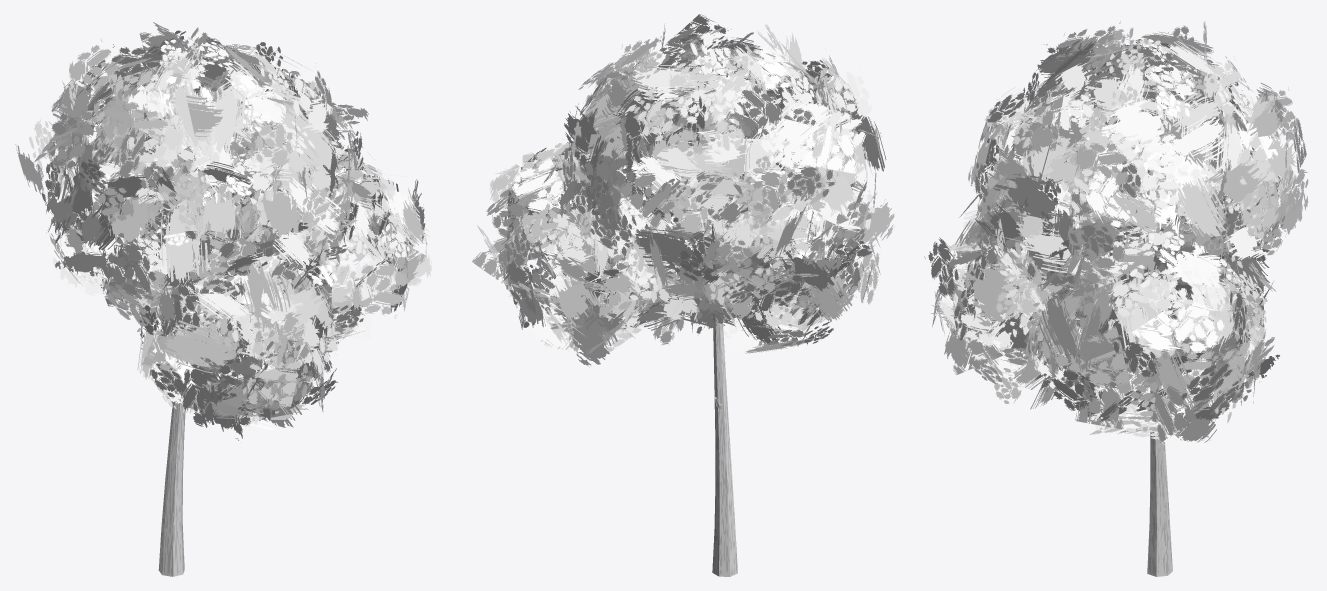
Rendered from stylized_tree_seed23.fbx.
The picture shows the model from 3 angles, left to right: view 1: azimuth 30°, elevation 25°; view 2: azimuth 150°, elevation 25°; view 3: azimuth 270°, elevation 25°; orthographic projection.
Visible parts, largest first — view 1: StylizedTree_Leaves.002, StylizedTree_Trunk.002; view 2: StylizedTree_Leaves.002, StylizedTree_Trunk.002; view 3: StylizedTree_Leaves.002, StylizedTree_Trunk.002.
Boxes of the visible parts, left/top/right/bottom form: StylizedTree_Leaves.002: left=15, top=22, right=431, bottom=440; StylizedTree_Trunk.002: left=155, top=160, right=232, bottom=576; StylizedTree_Leaves.002: left=472, top=14, right=894, bottom=367; StylizedTree_Trunk.002: left=671, top=221, right=745, bottom=576; StylizedTree_Leaves.002: left=924, top=21, right=1308, bottom=457; StylizedTree_Trunk.002: left=1141, top=168, right=1172, bottom=576.
Size of the model in its own units: 5.46 by 7.21 by 4.65.
Materials: 2 (2 with a texture image).
